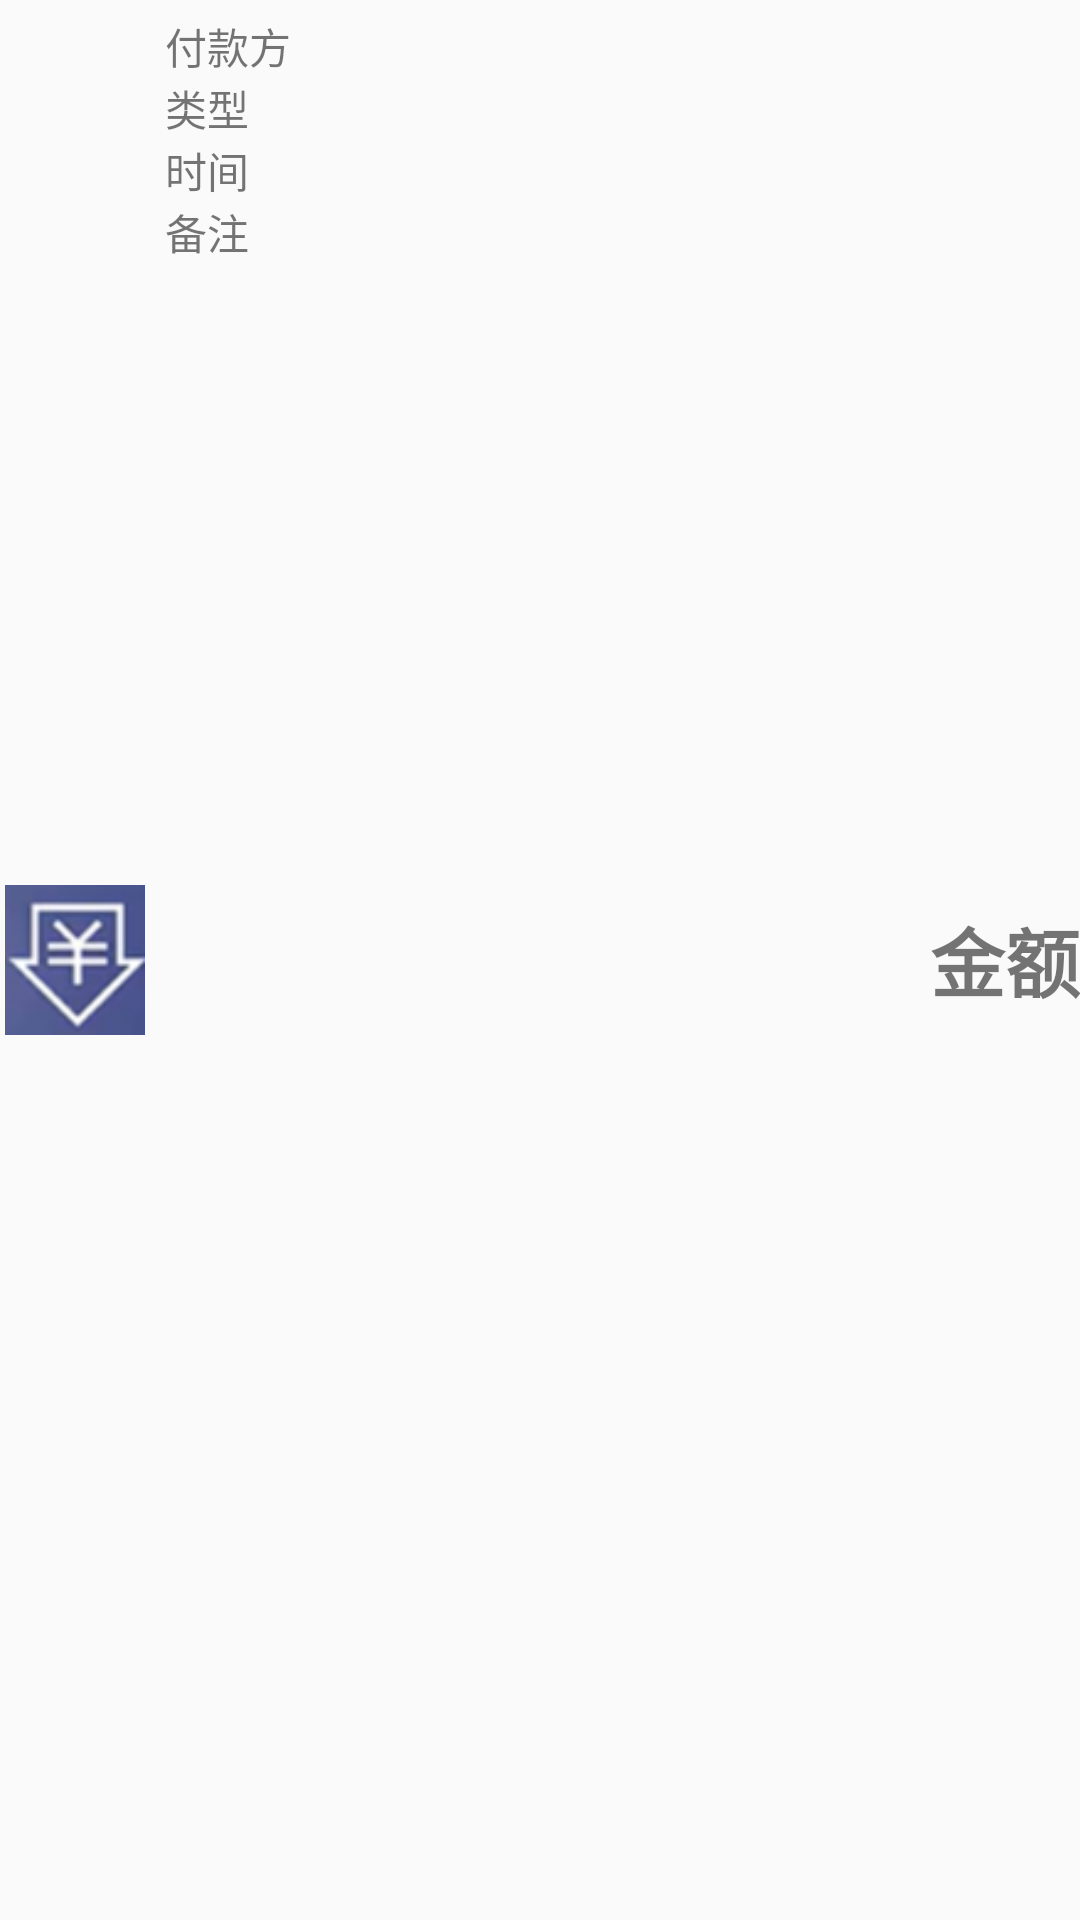

Locate icon controls on the screen. Image size 1080 × 1920, boxes as {"x1": x1, "y1": y1, "x2": x2, "y2": y2}.
pay in: {"x1": 5, "y1": 885, "x2": 145, "y2": 1035}
